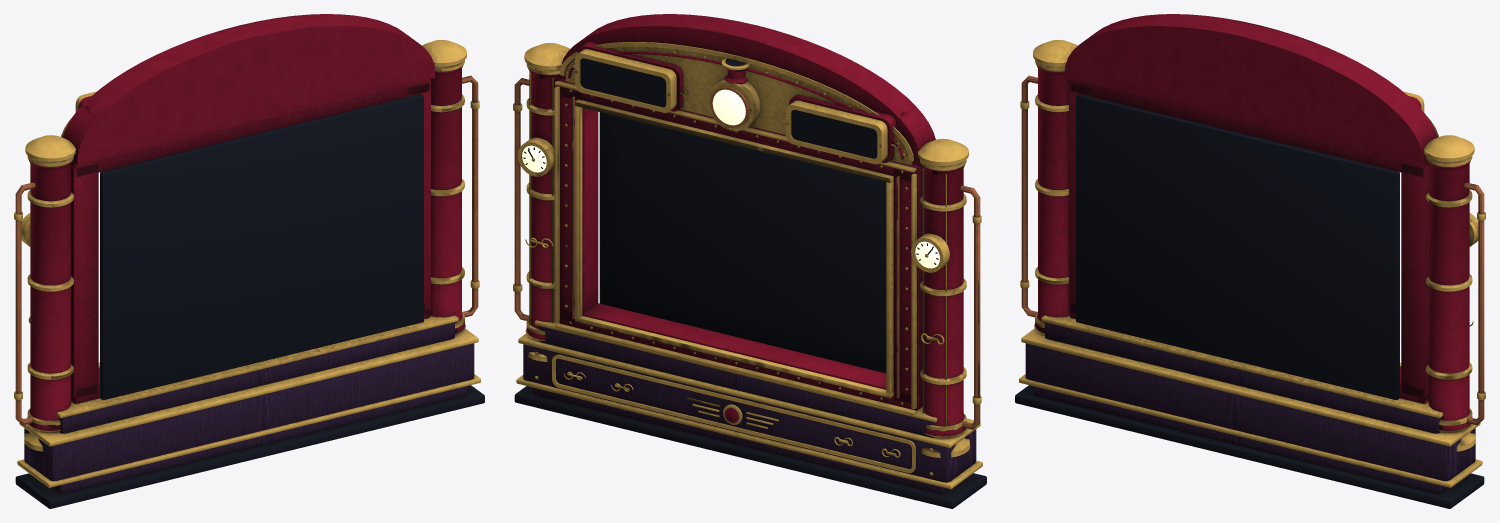
The picture shows the model from 3 angles, left to right: view 1: azimuth 30°, elevation 25°; view 2: azimuth 150°, elevation 25°; view 3: azimuth 330°, elevation 25°; orthographic projection.
Parts seen in each view (by area): view 1: Uniform_dark_inset, Crimson_enamel, Violet_lacquer, Carriage_gold, Copper_plumbing; view 2: Uniform_dark_inset, Crimson_enamel, Carriage_gold, Violet_lacquer, Copper_plumbing, Ivory_instrument_glow; view 3: Uniform_dark_inset, Crimson_enamel, Violet_lacquer, Carriage_gold, Copper_plumbing.
Part boxes in pixels (x1,y1,x2,y2): Uniform_dark_inset: (15, 94, 484, 508); Crimson_enamel: (27, 14, 464, 430); Violet_lacquer: (24, 322, 474, 494); Carriage_gold: (14, 40, 480, 487); Copper_plumbing: (15, 75, 478, 425); Uniform_dark_inset: (514, 58, 986, 508); Crimson_enamel: (526, 14, 965, 436); Carriage_gold: (513, 42, 982, 489); Violet_lacquer: (523, 326, 976, 494); Copper_plumbing: (514, 78, 980, 429); Ivory_instrument_glow: (522, 89, 939, 268); Uniform_dark_inset: (1015, 94, 1484, 508); Crimson_enamel: (1035, 14, 1472, 430); Violet_lacquer: (1025, 322, 1475, 494); Carriage_gold: (1019, 40, 1485, 487); Copper_plumbing: (1021, 75, 1484, 425).
Bounding box in the file's own units: 12.41 × 10.5 × 1.86.
Materials: 6 (5 with a texture image).
